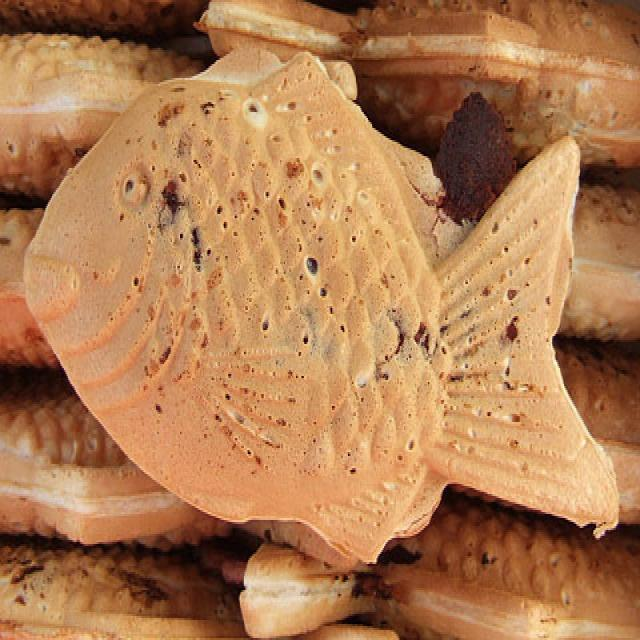熟制海鲜: (24, 22, 620, 576)
